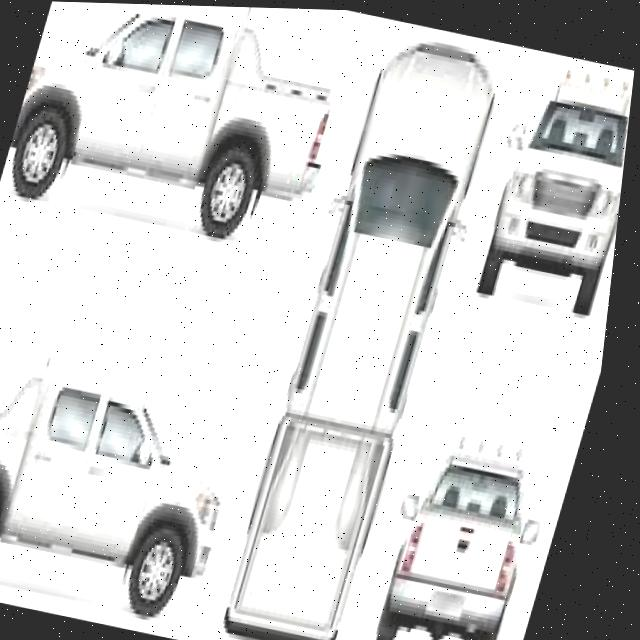truck: (231, 23, 509, 640), (0, 0, 358, 256), (0, 342, 267, 624), (476, 66, 635, 317), (379, 431, 560, 640)
